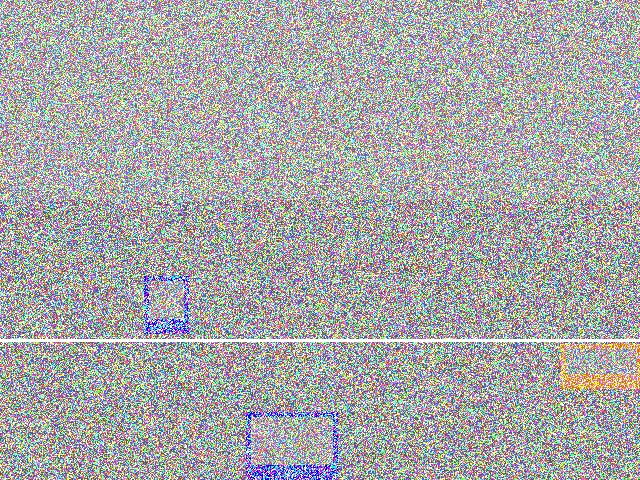car: (52, 345, 204, 451)
